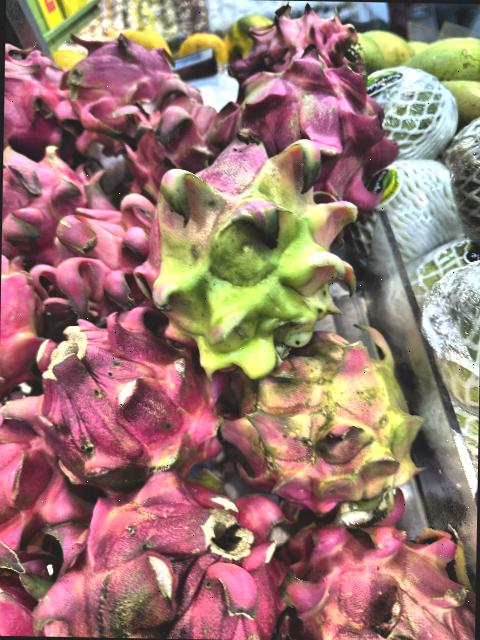buah-naga-belum-matang: (135, 126, 358, 380), (225, 333, 430, 514), (209, 58, 404, 226), (282, 515, 475, 640), (0, 252, 45, 390)
buah-naga-matang: (40, 472, 285, 640), (18, 306, 227, 487), (48, 27, 198, 135), (0, 394, 88, 573), (108, 76, 234, 194), (43, 200, 154, 308), (227, 5, 365, 89), (3, 36, 86, 175), (1, 141, 87, 264)
